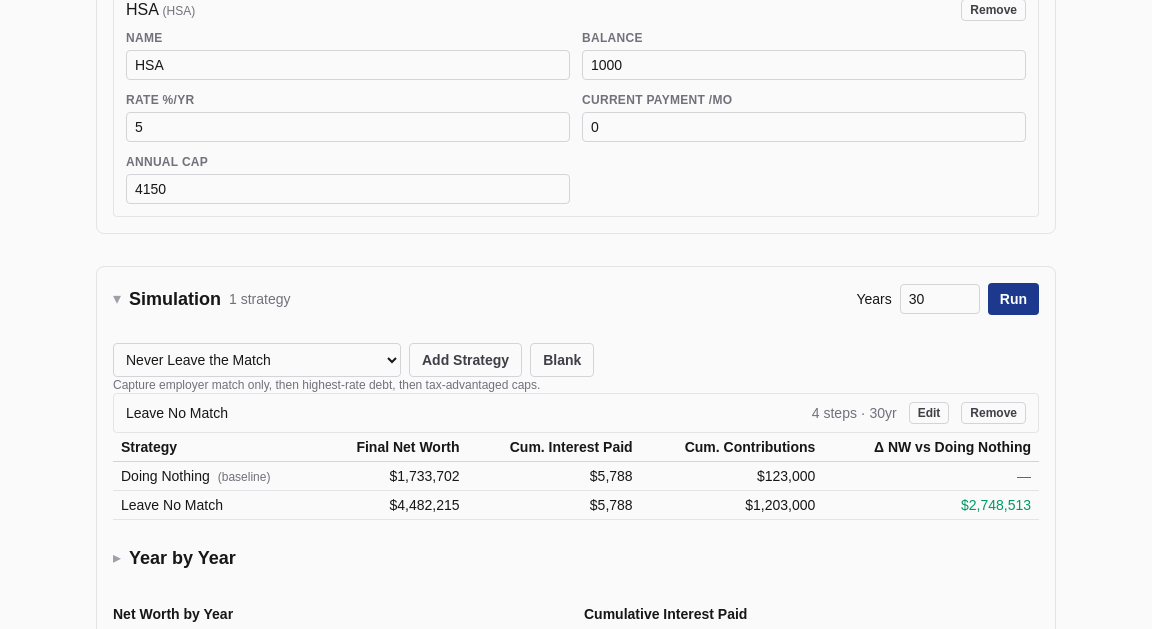
Home › removes a strategy
(page scrolled)
Click the button "Add Strategy": coordinates (466, 360) [409,343,522,377]
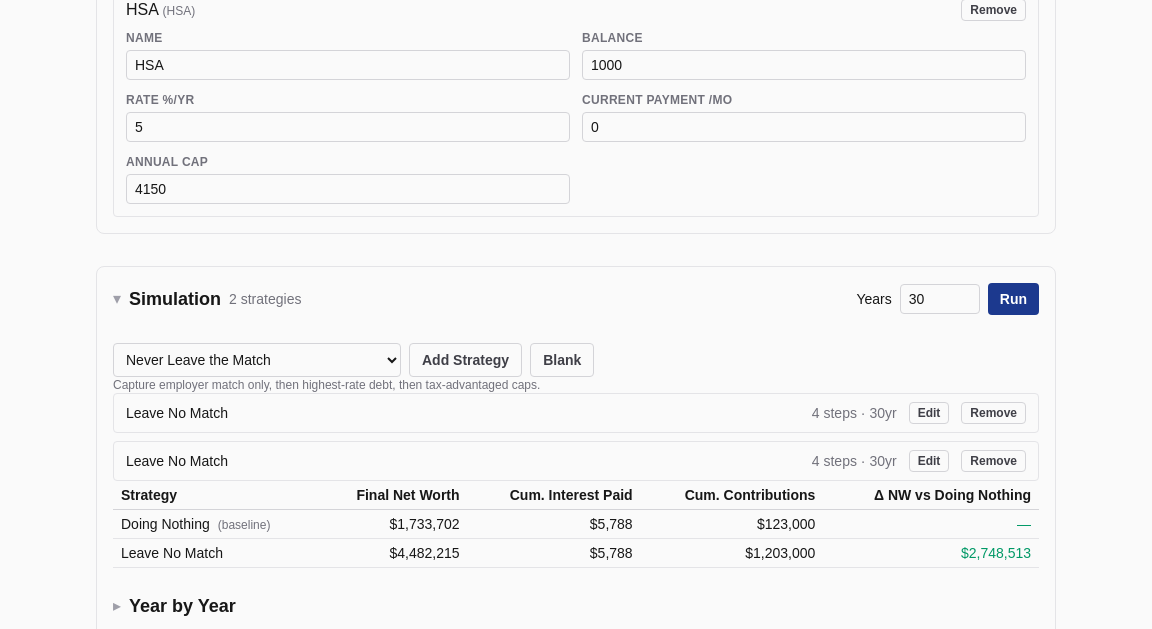
Click the 2nd button "Remove": coordinates (994, 413) [961,402,1026,424]
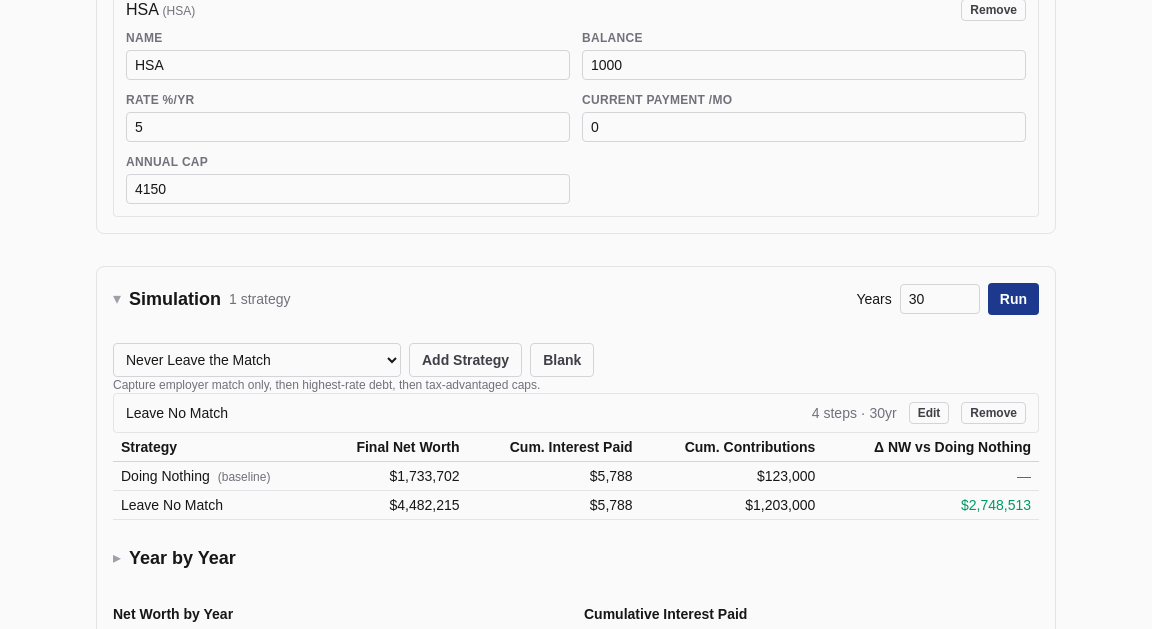
Check: the number of list items with test id "strategy-row" is 1, box [113,393,1039,433]
